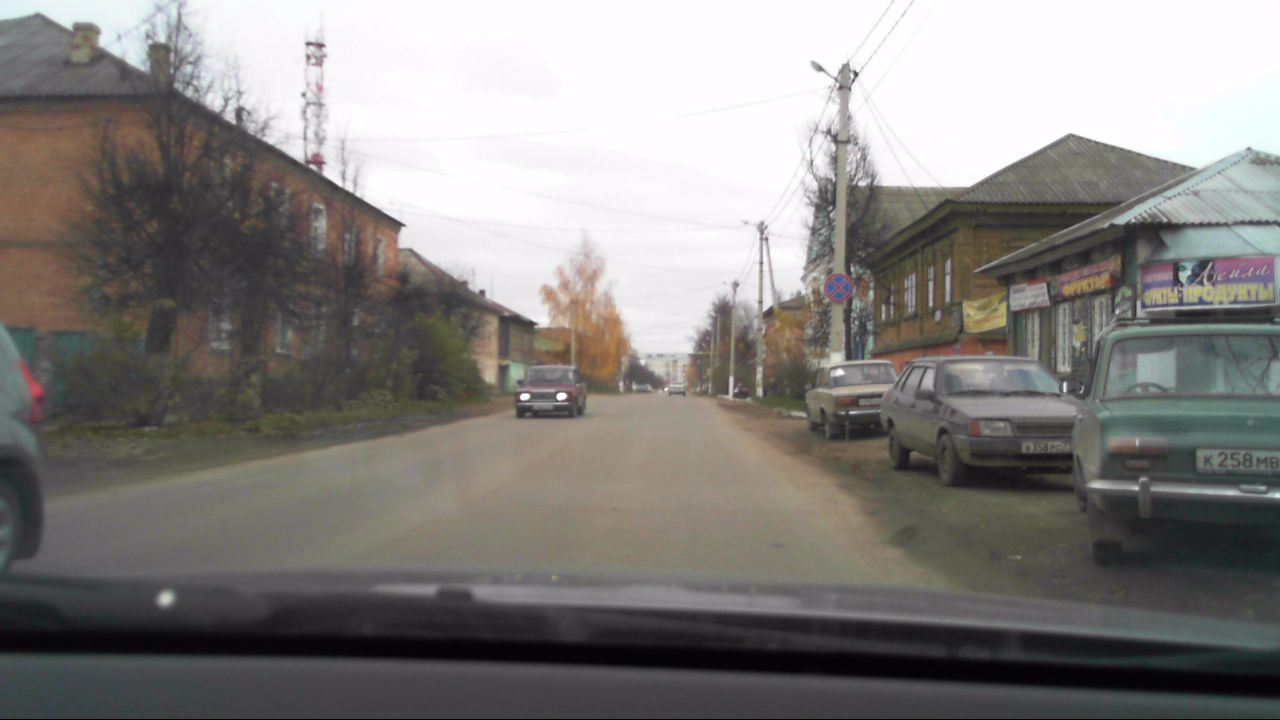No Parking: (822, 272, 853, 303)
